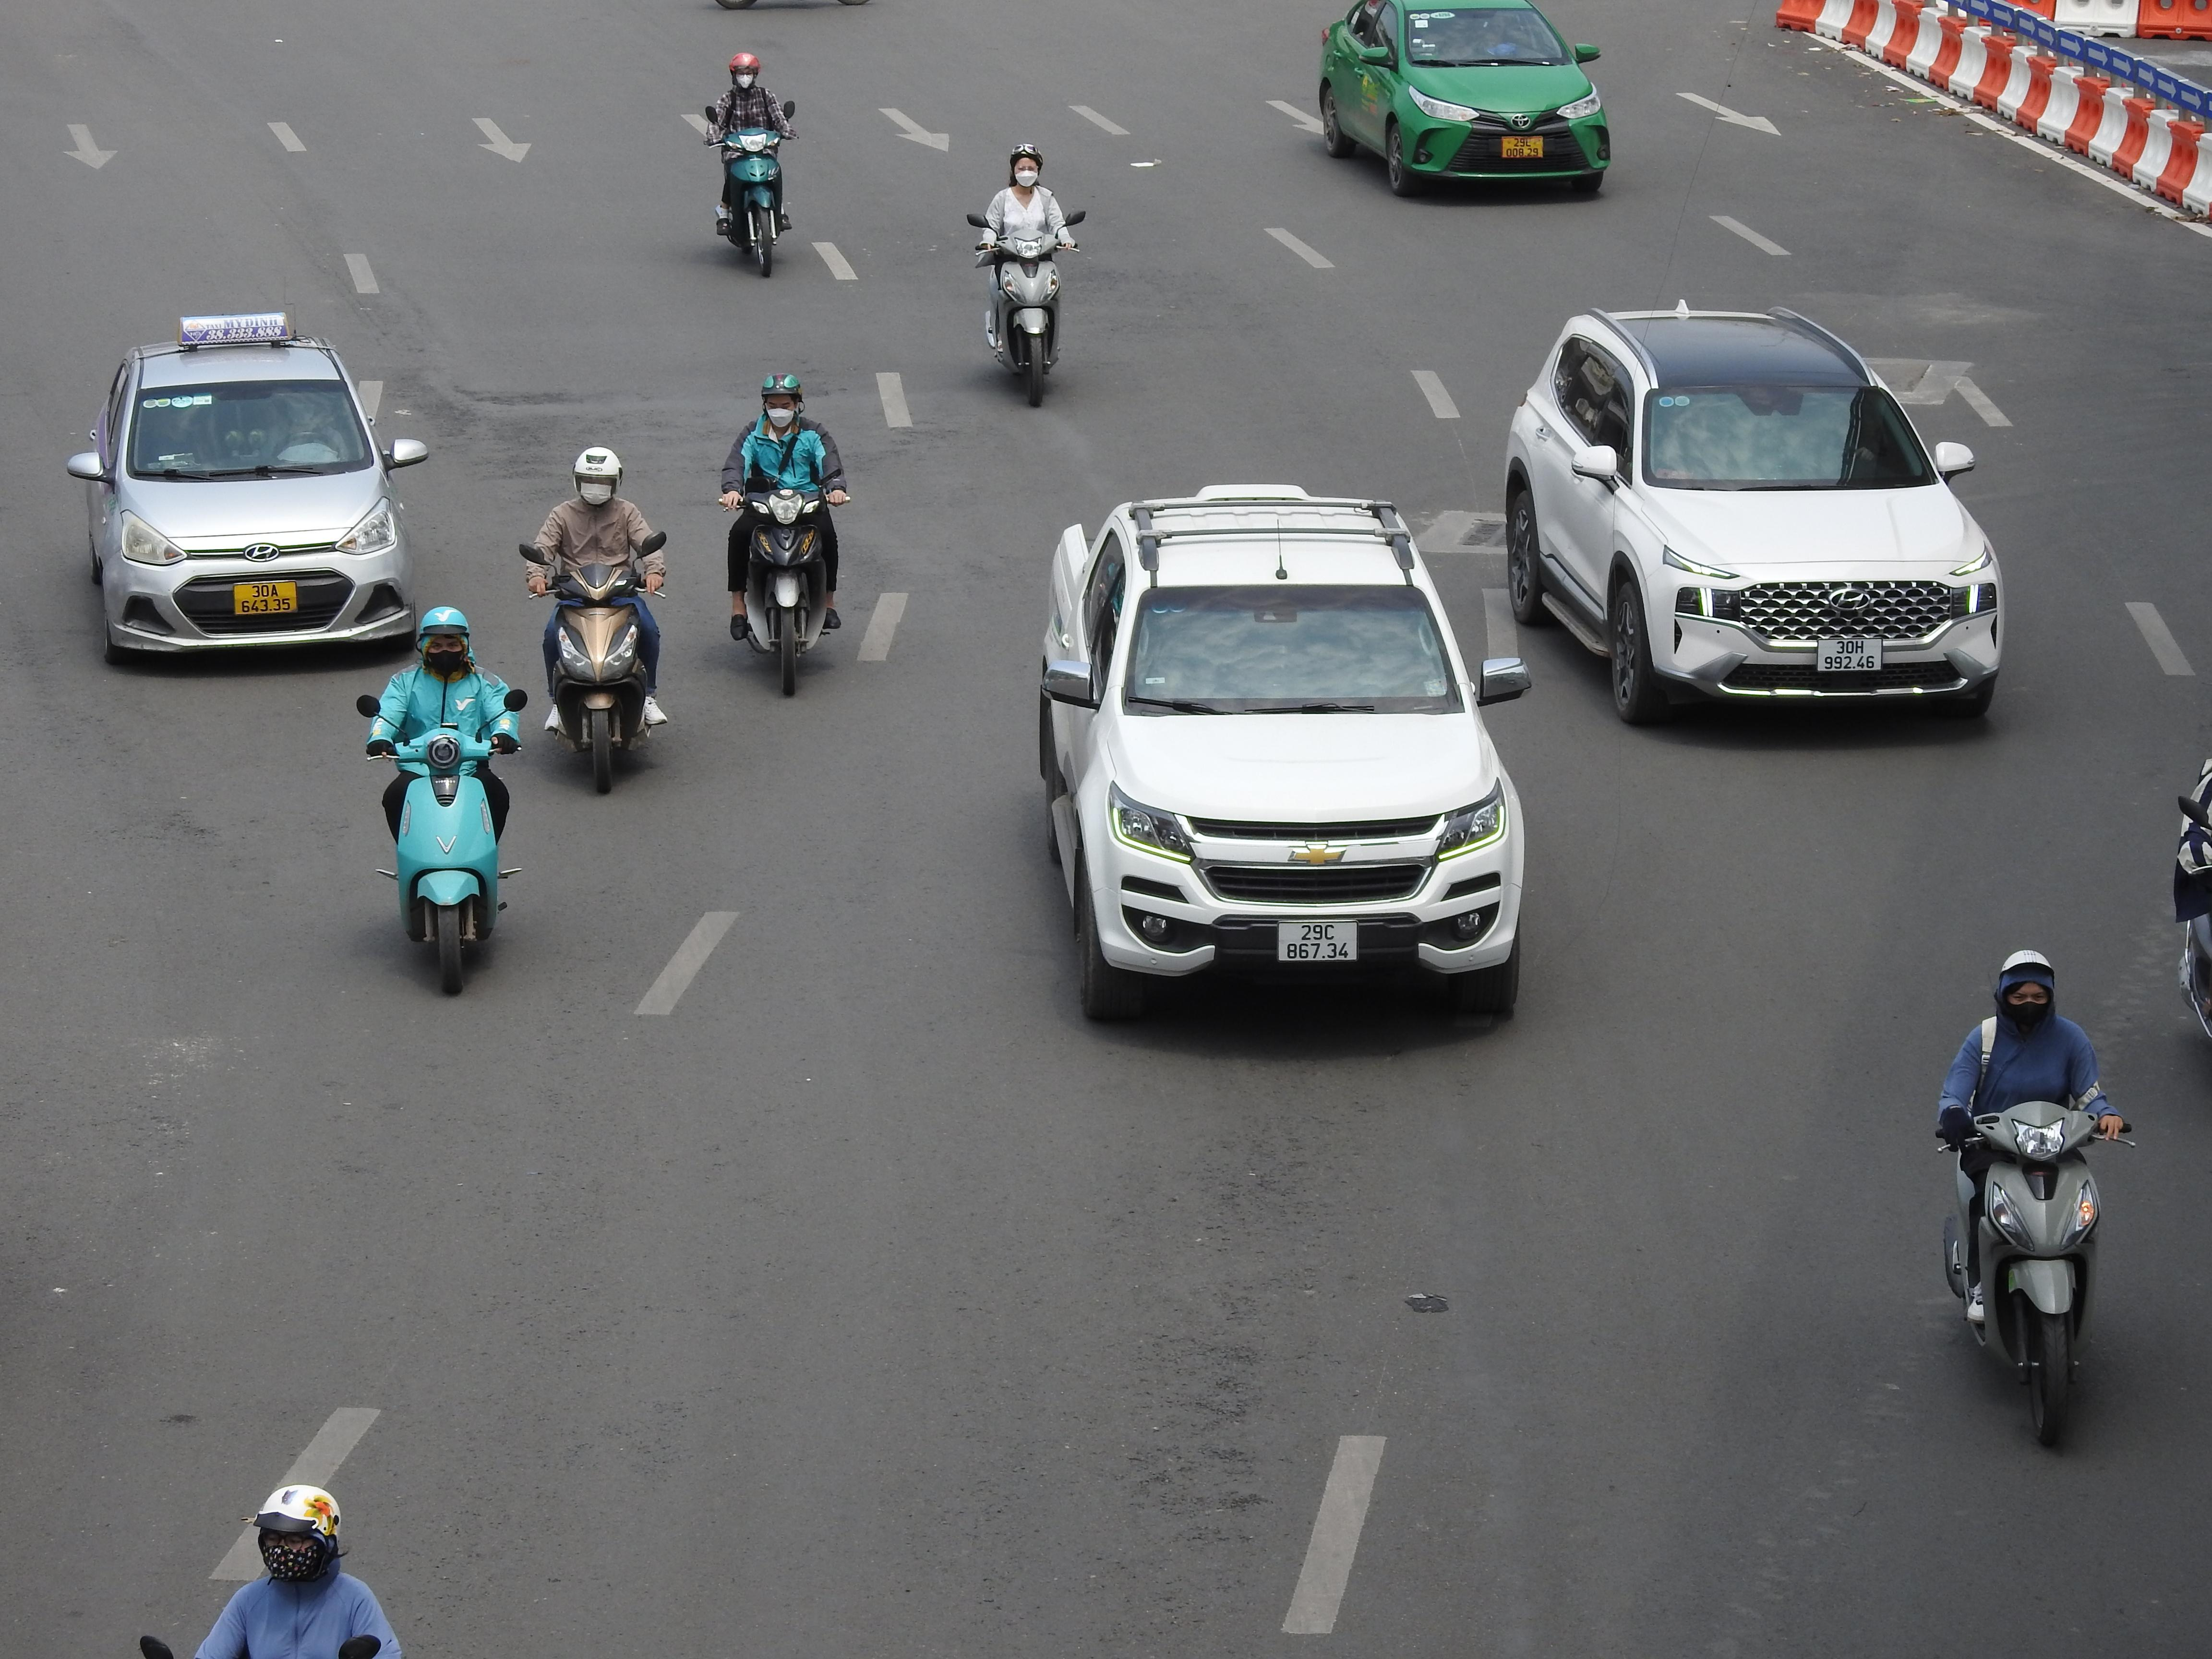BSV: (1277, 922, 1357, 962), (233, 580, 298, 615), (1817, 638, 1881, 671), (1501, 136, 1543, 159)
car: (1035, 483, 1533, 1025), (1500, 305, 2005, 730), (66, 314, 428, 666), (1317, 0, 1611, 200)
motorbike: (1935, 948, 2130, 1452), (364, 603, 523, 999), (524, 444, 669, 796), (138, 1485, 413, 1659), (721, 371, 846, 699), (972, 143, 1080, 410), (705, 52, 794, 279)
